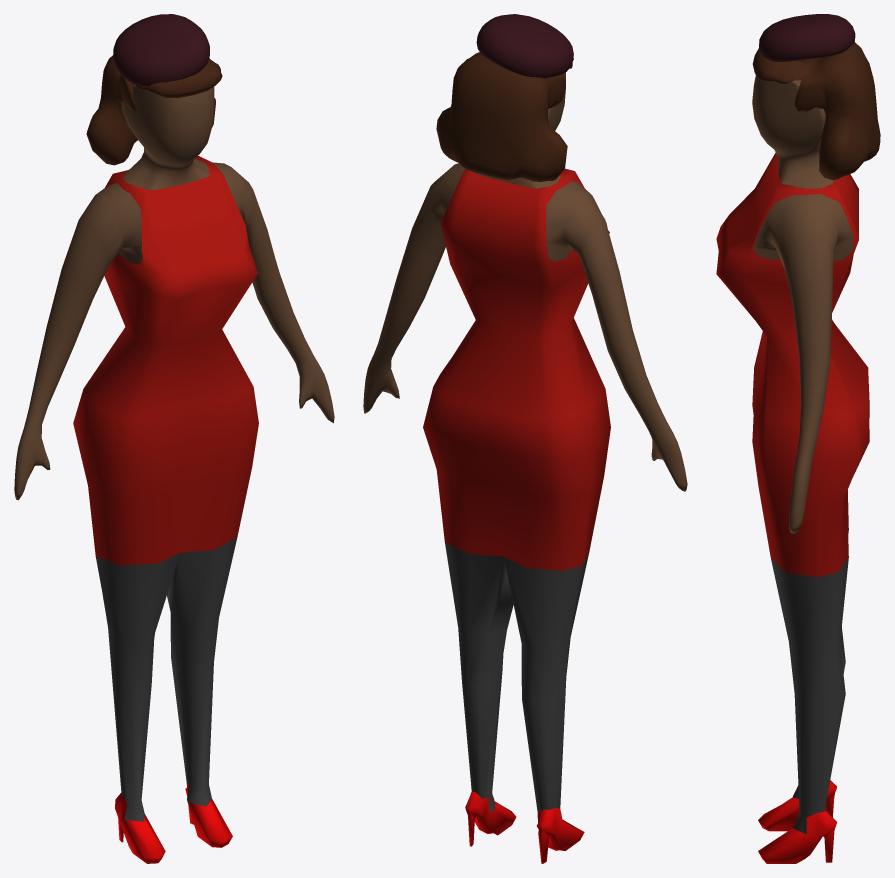
3 renders of one model, left to right at view 1: azimuth 30°, elevation 25°; view 2: azimuth 150°, elevation 25°; view 3: azimuth 270°, elevation 25°, orthographic.
Visible parts, largest first — view 1: dress, skin, legs, hat, hair, shoes; view 2: dress, legs, skin, hair, hat, shoes; view 3: dress, skin, legs, hair, hat, shoes.
Part boxes in pixels (x1,y1,x2,y2): dress: (73,155,258,565); skin: (14,84,334,500); legs: (95,537,237,821); hat: (113,14,209,86); hair: (86,55,222,165); shoes: (115,782,232,863); dress: (423,168,610,570); legs: (445,542,588,812); skin: (363,72,687,491); hair: (436,52,573,181); hat: (476,14,573,78); shoes: (465,791,584,863); dress: (716,152,869,576); skin: (752,75,853,533); legs: (771,530,848,834); hair: (752,42,880,179); hat: (759,14,855,61); shoes: (758,780,836,863).
Size of the model in its own units: 460 by 1124 by 202.
